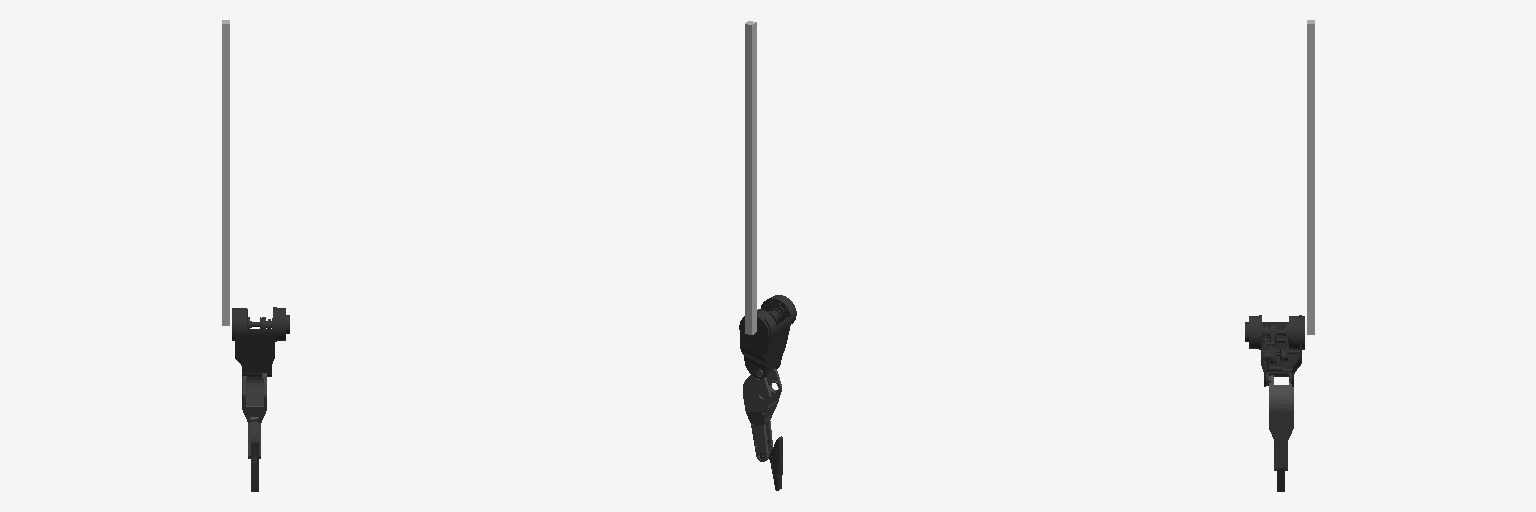
robot.urdf — jinee-single-leg:
<?xml version="1.0" ?>
<robot name="jinee-single-leg">
  <material name="black">
    <color rgba="0.0 0.0 0.0 1.0"/>
  </material>

  <material name="light_gray">
     <color rgba="0.75 0.75 0.75 1.0"/>
  </material>

  <material name="black1">
      <color rgba="0.25 0.25 0.25 0.90"/>
  </material>

  <material name="black2">
      <color rgba="0.35 0.35 0.35 0.90"/>
  </material>
  <link name="world"/>
  <joint name="fixed" type="fixed">
    <parent link="world"/>
    <child link="base"/>
  </joint>

  <link name="base">
    <visual>
      <origin rpy="0 0 0" xyz="0 0 0.5"/>
      <geometry>
        <box size="0.025 0.025 1.0"/>
      </geometry>
      <material name="light_gray"/>
    </visual>

    <collision>
        <origin rpy="0 0 0" xyz="0 0 0.5"/>
      <geometry>
        <box size="0.025 0.025 1.0"/>
      </geometry>
    </collision>

    <inertial>
      <mass value="10"/>
      <inertia ixx="1.0" ixy="0.0" ixz="0.0" iyy="1.0" iyz="0.0" izz="1.0"/>
    </inertial>
  </link>

  <joint name="linear_guide" type="prismatic">
    <origin rpy="0 0 0" xyz="0 -0.03525 0.0"/>
    <parent link="base"/>
    <child link="hip_1"/>
    <axis xyz="0 0 1"/>
  </joint>

  <link name="hip_1">
    <visual>
      <origin rpy="-1.570796 0 0" xyz="0.0 0 0.0"/>
      <geometry>
        <cylinder length="0.034" radius="0.049"/>
      </geometry>
      <material name="black1"/>
    </visual>

    <collision>
      <origin rpy="-1.570796 0 0" xyz="0.0 0 0.0"/>
      <geometry>
        <cylinder length="0.034" radius="0.049"/>
      </geometry>
    </collision>

    <inertial>
      <mass value="0.7835"/>
      <inertia ixx="0.000199716" ixy="0.0" ixz="0.0" iyy="0.000317828" iyz="0.0" izz="0.000199716"/>
    </inertial>
  </link>

  <joint name="hip_pitch" type="revolute">
    <origin rpy="0 0 0" xyz="0 -0.080 0.0"/>
    <parent link="hip_1"/>
    <child link="hip_2"/>
    <axis xyz="0 1 0"/>
  </joint>

  <link name="hip_2">
      <visual>
        <origin rpy="1.570796 3.141592 0" xyz="0.0 0.050 0.0"/>
        <geometry>
          <mesh filename="base_link.STL" />
        </geometry>
        <material name="black1"/>
      </visual>

      <collision>
        <origin rpy="-1.570796 0 0" xyz="0.0 0 0.0"/>
        <geometry>
          <cylinder length="0.034" radius="0.049"/>
        </geometry>
      </collision>

      <inertial>
        <mass value="0.7835"/>
        <inertia ixx="0.000199716" ixy="0.0" ixz="0.0" iyy="0.000317828" iyz="0.0" izz="0.000199716"/>
      </inertial>
  </link>

  <joint name="hip_upper" type="fixed">
        <origin rpy="0 0 0" xyz="0 0 0"/>
        <parent link="hip_2"/>
        <child link="upper_leg"/>
  </joint>

  <link name="upper_leg">
    <collision>
      <origin rpy="0 0 0" xyz="0 0 -0.075"/>
      <geometry>
        <box size="0.03 0.02 0.15"/>
      </geometry>
    </collision>

    <inertial>
      <mass value="0.221"/>
      <inertia ixx="1.0" ixy="0.0" ixz="0.0" iyy="1.0" iyz="0.0" izz="1.0"/>
    </inertial>
  </link>

  <joint name="knee_pitch" type="revolute">
    <origin rpy="0 0 0" xyz="0 0 -0.15"/>
    <parent link="upper_leg"/>
    <child link="lower_leg"/>
    <axis xyz="0 1 0"/>
  </joint>

  <link name="lower_leg">
    <visual>
      <origin rpy="0 -1.221730222 0" xyz="0 0 0"/>
      <geometry>
        <mesh filename="calf.STL" />
      </geometry>
      <material name="black2"/>
    </visual>
    <collision>
      <origin rpy="0 0 0" xyz="0 0 -0.1375"/>
      <geometry>
        <box size="0.03 0.02 0.275"/>
      </geometry>
      </collision>
    <inertial>
      <mass value="1.0"/>
      <inertia ixx="1.0" ixy="0.0" ixz="0.0" iyy="1.0" iyz="0.0" izz="1.0"/>
    </inertial>
  </link>

  <joint name="ankle_pitch" type="revolute">
    <origin rpy="0 0 0" xyz="0 0 -0.275"/>
    <parent link="lower_leg"/>
    <child link="foot"/>
    <axis xyz="0 1 0"/>
  </joint>

  <link name="foot">
    <visual>
      <origin rpy="0 0.986110822 0" xyz="0 0.011 0"/>
      <geometry>
        <mesh filename="foot.STL" />
      </geometry>
      <material name="black1"/>
    </visual>

    <collision>
      <origin rpy="0 0 0" xyz="-0.026 0 -0.01738"/>
      <geometry>
        <box size="0.052 0.02 0.16"/>
      </geometry>
    </collision>

    <inertial>
      <mass value="0.5"/>
      <inertia ixx="1.0" ixy="0.0" ixz="0.0" iyy="1.0" iyz="0.0" izz="1.0"/>
    </inertial>
  </link>
</robot>

--- What the picture shows (computed from the rendered views, not written in the file) ---
Views: 3 orthographic renders of the robot side by side, from view 1: azimuth 90°, elevation 25°; view 2: azimuth 150°, elevation 25°; view 3: azimuth 270°, elevation 25°.
Robot: jinee-single-leg — 7 links, 6 joints (3 revolute, 1 prismatic, 2 fixed); root link world; default pose: every joint at zero.
Visible links, largest first — view 1: hip_2, base, lower_leg; view 2: base, hip_2, lower_leg, foot; view 3: hip_2, base, lower_leg.
Link boxes in pixels (x1,y1,x2,y2): hip_2: (235,307,289,376); base: (222,20,229,325); lower_leg: (242,373,266,458); base: (745,21,756,334); hip_2: (740,295,796,379); lower_leg: (743,368,781,461); foot: (760,436,782,490); hip_2: (1245,315,1301,386); base: (1307,20,1314,334); lower_leg: (1269,375,1293,470).
Bounding box of the posed robot: 0.1108 × 0.2063 × 1.53 m (x, y, z).
3 mesh visuals loaded from 3 distinct referenced files (3 binary STL).
